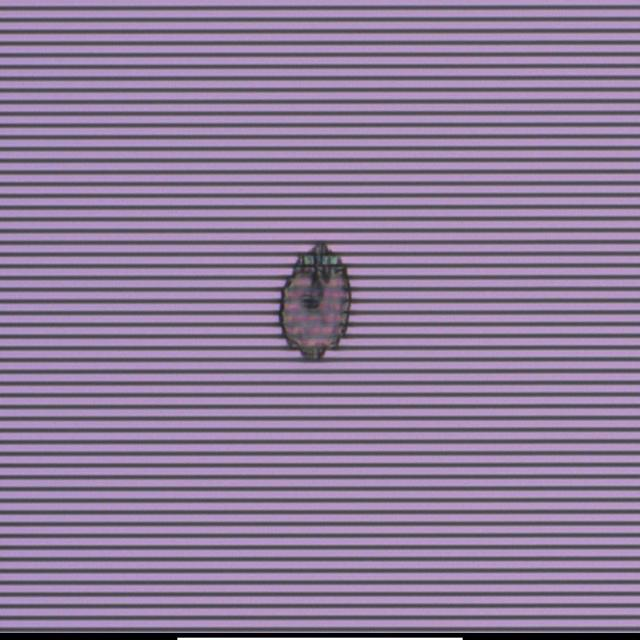03_intrusion: (278, 241, 353, 362)
